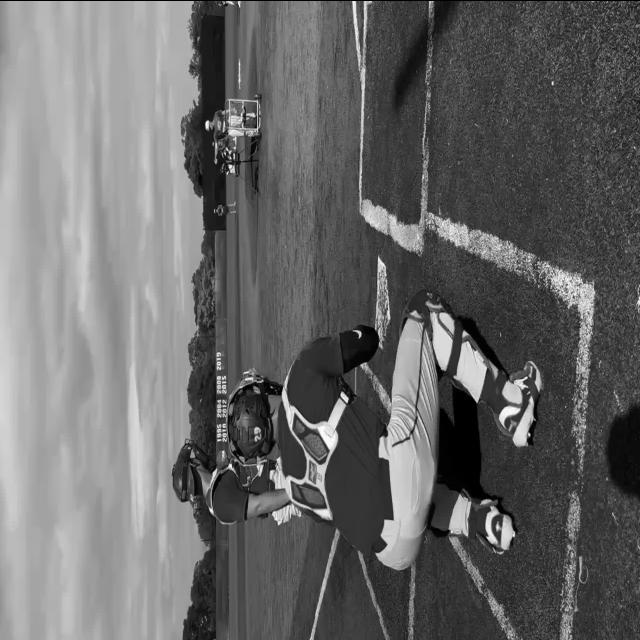base: (374, 252, 392, 344)
shoe: (493, 360, 542, 448), (463, 492, 515, 554)
